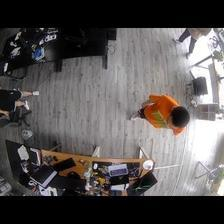normal: (122, 93, 189, 135), (1, 87, 40, 115)
